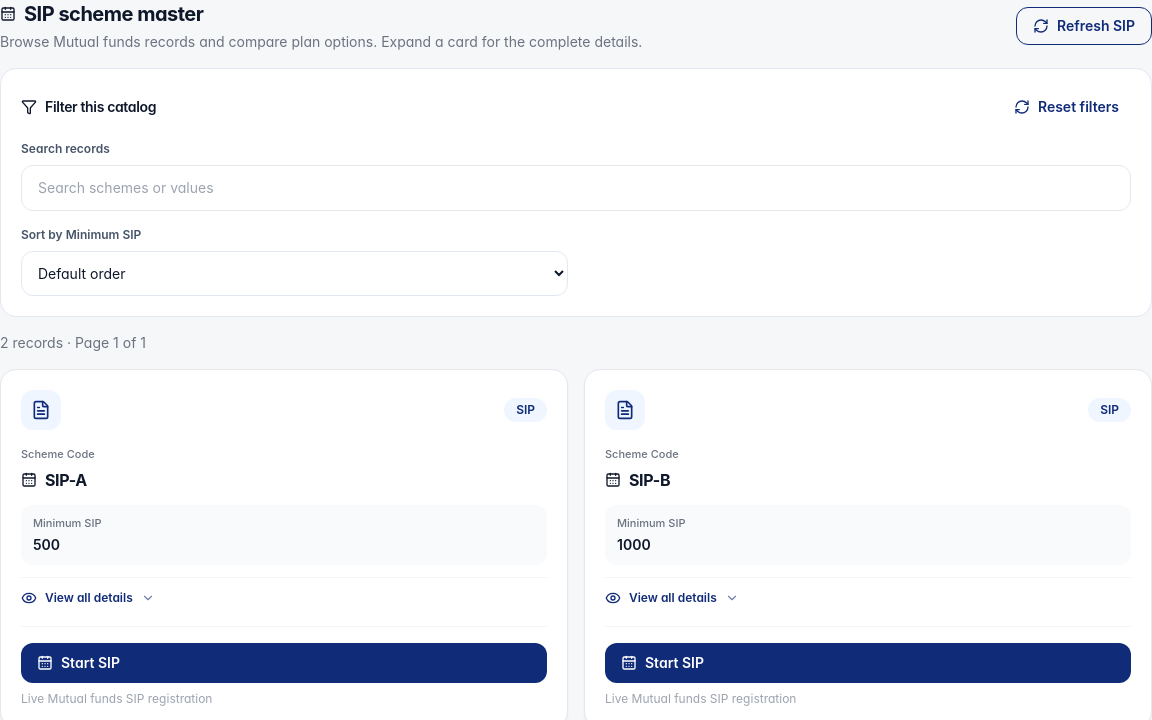
Scenario: Mutual funds selected master preview › fetches SIP, displays returned cards and supports search
Expected: the heading "SIP-A" is shown, [21,470,87,490]
Type "SIP-B" into the field named "Search SIP master" at (576, 188), box [21,165,1131,211]
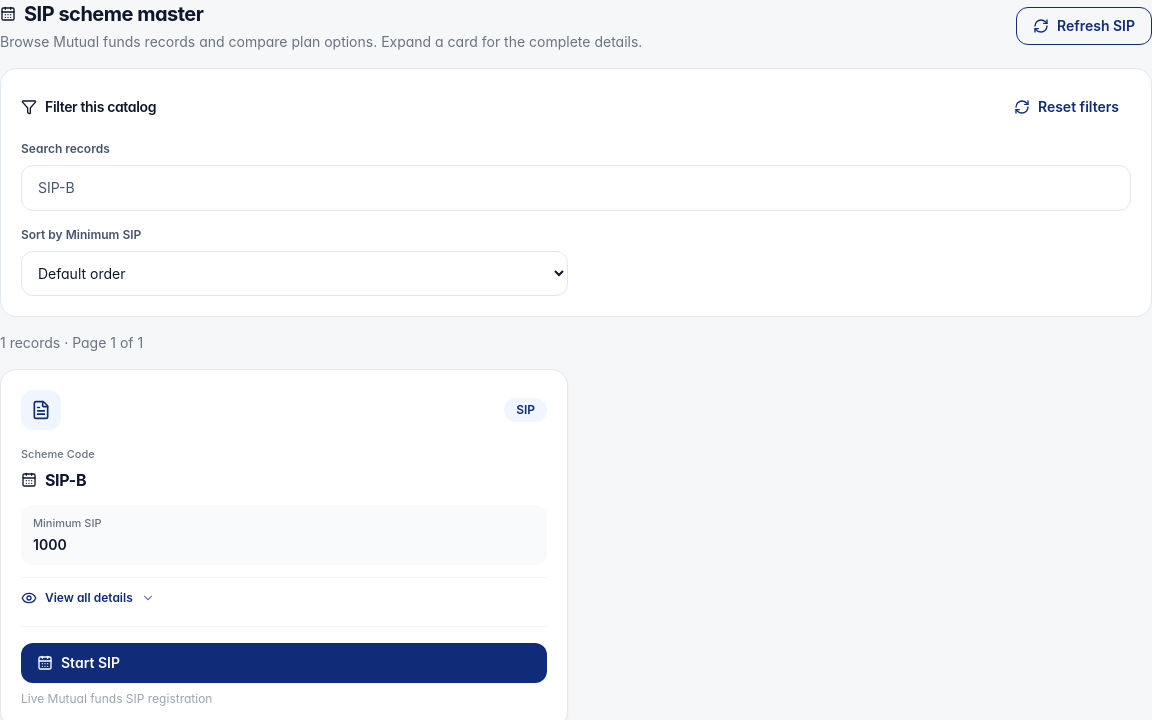
Now the heading "SIP-A" is gone
Now the heading "SIP-B" is shown, box [21,470,86,490]
